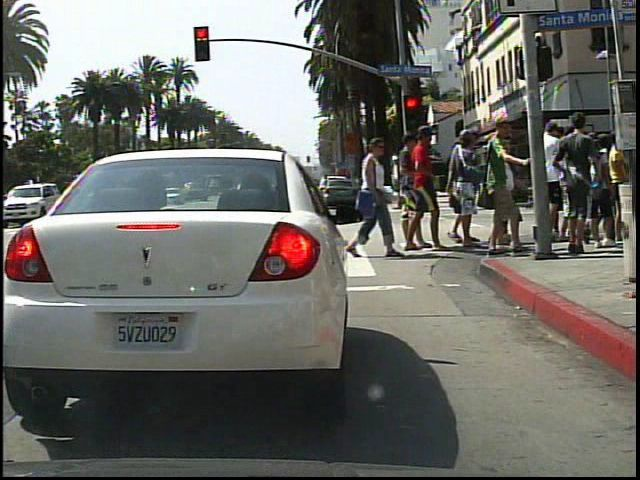person: (349, 129, 398, 263)
